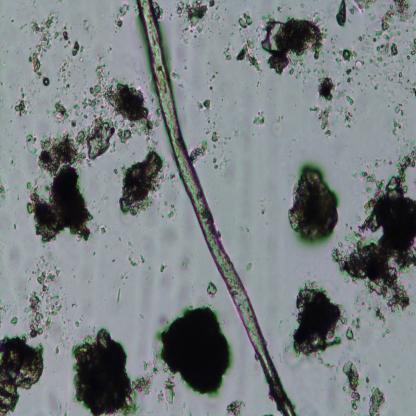Background material: (335, 152, 416, 314), (25, 131, 96, 241), (153, 298, 231, 398), (72, 327, 139, 416), (260, 2, 332, 82), (288, 277, 346, 370), (286, 159, 342, 247), (19, 239, 66, 337), (0, 329, 49, 416), (30, 6, 81, 84), (109, 78, 160, 139), (112, 156, 163, 214), (372, 0, 416, 67), (79, 61, 111, 127), (175, 0, 218, 46), (74, 120, 118, 162), (134, 362, 159, 406), (339, 364, 361, 410), (367, 71, 407, 96), (308, 105, 334, 140), (238, 36, 262, 72), (188, 137, 215, 164), (49, 100, 78, 124), (11, 84, 31, 116), (315, 77, 341, 101), (161, 385, 180, 414), (369, 388, 387, 416), (339, 106, 358, 130), (392, 102, 405, 137), (346, 318, 363, 343), (336, 0, 350, 29), (336, 47, 356, 67), (237, 10, 257, 29), (126, 251, 147, 269), (226, 398, 244, 416), (171, 67, 187, 87), (0, 179, 10, 210), (194, 101, 214, 116), (116, 4, 126, 32), (355, 0, 378, 12), (208, 276, 218, 302), (208, 70, 218, 94), (163, 202, 177, 219), (253, 110, 267, 126), (222, 42, 233, 60), (273, 114, 284, 132), (356, 32, 370, 44), (158, 262, 170, 276), (211, 128, 222, 143), (354, 56, 364, 71), (116, 286, 124, 304), (346, 93, 354, 106), (246, 258, 254, 271), (341, 67, 354, 74), (9, 318, 19, 326), (410, 87, 416, 98), (10, 158, 16, 168), (101, 225, 106, 233), (346, 78, 352, 84)
Microfibre: (136, 0, 295, 416)
